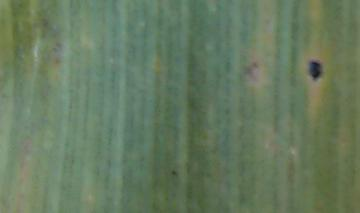tarspot: (306, 58, 324, 82), (241, 61, 262, 81), (40, 15, 57, 34), (50, 40, 64, 53), (168, 168, 177, 176)
